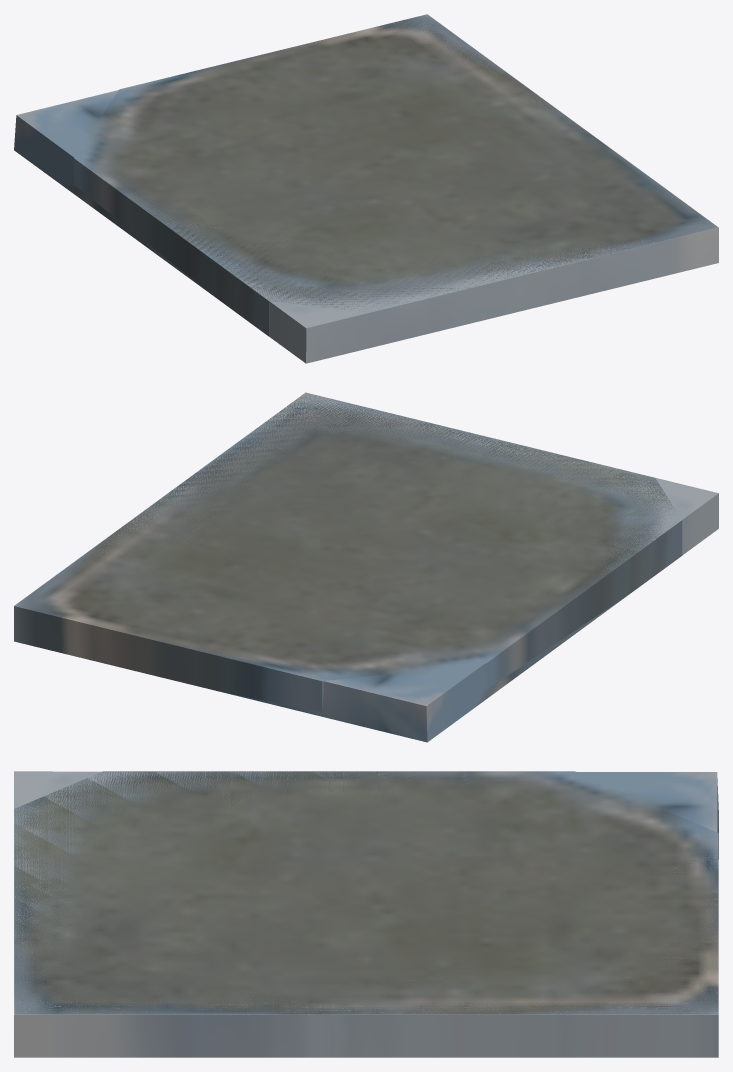
File: Scene_Object_TianShan_DiMianzhuan_3.FBX
The picture shows the model from 3 angles, top to bottom: view 1: azimuth 30°, elevation 25°; view 2: azimuth 150°, elevation 25°; view 3: azimuth 270°, elevation 25°; orthographic projection. The views are drawn at different scales.
Visible parts, largest first — view 1: Scene_Object_TianShan_DiMianzhuan_3, Scene_Object_TianShan_DiMianzhuan_3_Xzm; view 2: Scene_Object_TianShan_DiMianzhuan_3, Scene_Object_TianShan_DiMianzhuan_3_Xzm; view 3: Scene_Object_TianShan_DiMianzhuan_3, Scene_Object_TianShan_DiMianzhuan_3_Xzm.
Part boxes in pixels (bbox=[...]): Scene_Object_TianShan_DiMianzhuan_3: bbox=[74, 14, 718, 336]; Scene_Object_TianShan_DiMianzhuan_3_Xzm: bbox=[14, 15, 718, 363]; Scene_Object_TianShan_DiMianzhuan_3: bbox=[14, 392, 682, 712]; Scene_Object_TianShan_DiMianzhuan_3_Xzm: bbox=[14, 392, 718, 742]; Scene_Object_TianShan_DiMianzhuan_3: bbox=[14, 771, 718, 1057]; Scene_Object_TianShan_DiMianzhuan_3_Xzm: bbox=[14, 771, 718, 1057].
Size of the model in its own units: 48.15 by 3.94 by 58.85.
